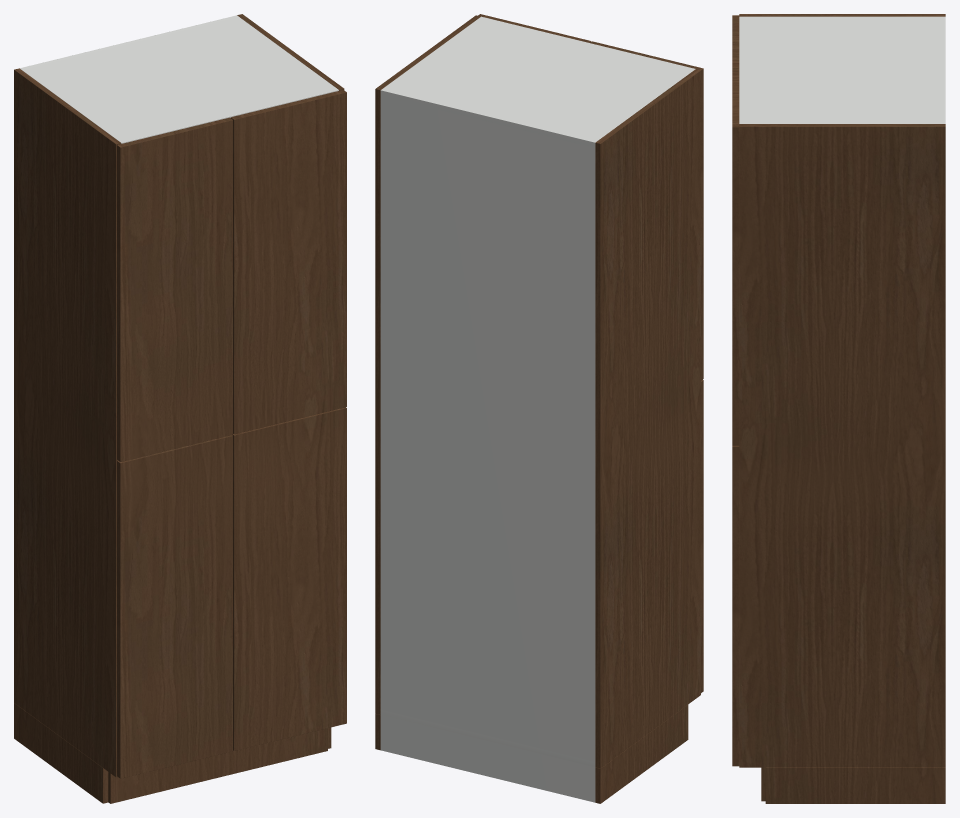
The model's file is bvc-2074.glb.
3 views of the same model, side by side, from view 1: azimuth 30°, elevation 25°; view 2: azimuth 150°, elevation 25°; view 3: azimuth 270°, elevation 25° (orthographic). The views are drawn at different scales.
Visible parts, largest first — view 1: Cabinet side, Upper pantry door, Lower pantry door, Upper pantry door.001, Lower pantry door.001, Cabinet top, Recessed toe board, Recessed side plinth, Cabinet side.001; view 2: Cabinet back, Cabinet side, Cabinet top, Cabinet side.001, Recessed side plinth, Upper pantry door, Cabinet bottom, Lower pantry door; view 3: Cabinet side.001, Cabinet top, Recessed side plinth.001, Upper pantry door.001, Lower pantry door.001, Cabinet side, Cabinet back, Upper pantry door.
Part boxes in pixels (left/top/right/bottom): Cabinet side: left=14, top=68, right=121, bottom=777; Upper pantry door: left=117, top=117, right=232, bottom=461; Lower pantry door: left=117, top=435, right=232, bottom=778; Upper pantry door.001: left=230, top=90, right=346, bottom=434; Lower pantry door.001: left=232, top=407, right=346, bottom=750; Cabinet top: left=21, top=16, right=338, bottom=143; Recessed toe board: left=108, top=728, right=327, bottom=803; Recessed side plinth: left=14, top=703, right=108, bottom=803; Cabinet side.001: left=237, top=14, right=344, bottom=90; Cabinet back: left=380, top=89, right=596, bottom=802; Cabinet side: left=595, top=69, right=700, bottom=768; Cabinet top: left=381, top=16, right=695, bottom=147; Cabinet side.001: left=375, top=15, right=480, bottom=714; Recessed side plinth: left=595, top=705, right=688, bottom=803; Upper pantry door: left=590, top=41, right=703, bottom=380; Cabinet bottom: left=380, top=710, right=595, bottom=766; Lower pantry door: left=701, top=379, right=703, bottom=692; Cabinet side.001: left=739, top=124, right=945, bottom=767; Cabinet top: left=739, top=16, right=941, bottom=123; Recessed side plinth.001: left=765, top=767, right=945, bottom=803; Upper pantry door.001: left=732, top=71, right=739, bottom=445; Lower pantry door.001: left=732, top=445, right=739, bottom=766; Cabinet side: left=739, top=14, right=945, bottom=16; Cabinet back: left=941, top=16, right=945, bottom=123; Upper pantry door: left=732, top=15, right=739, bottom=71.
Size of the model in its own units: 0.762 by 2.13 by 0.6096.
Materials: 2 (1 with a texture image).
